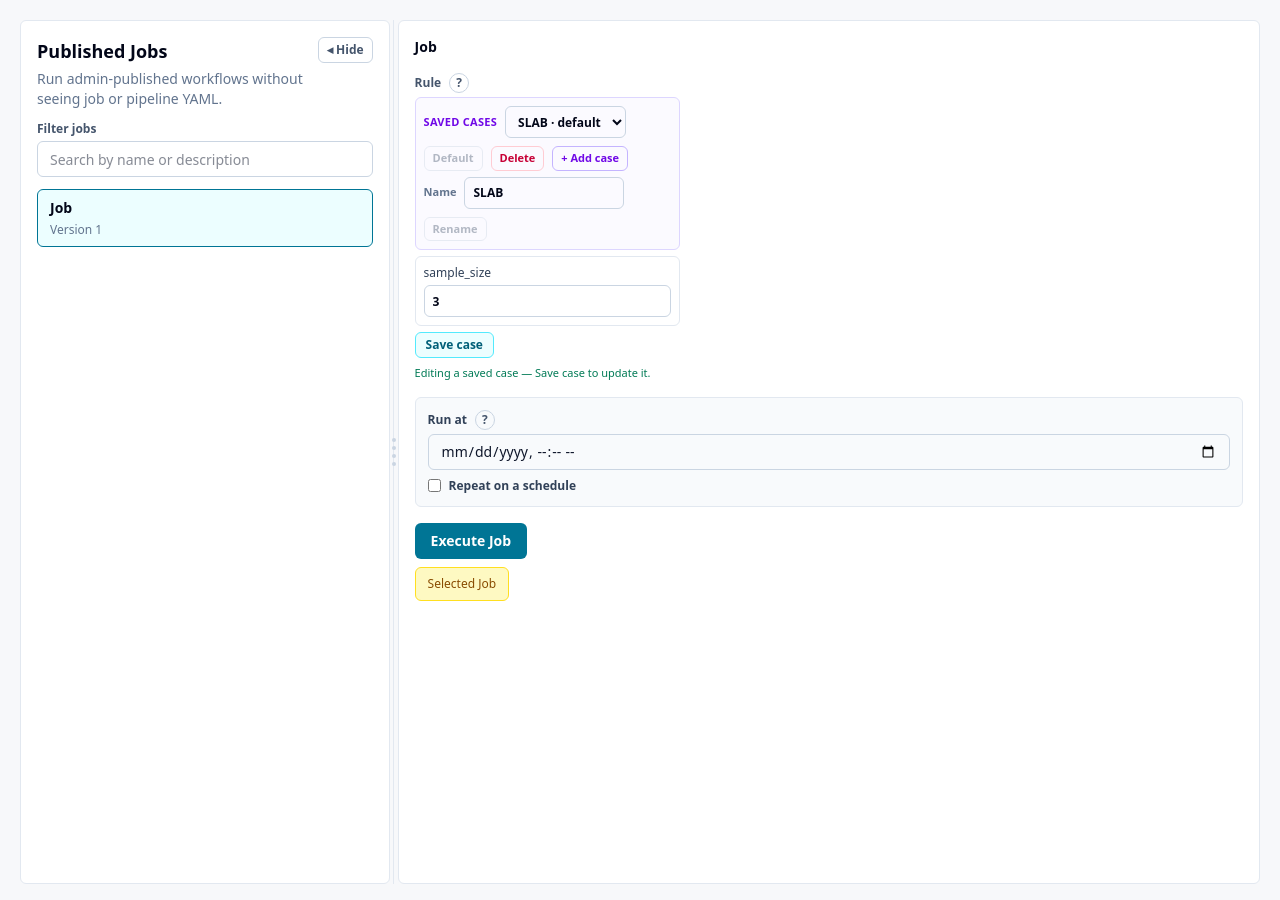
Test: PublishedJobsPage › pre-fills the default case and switches cases for a multi-instance field
Expected: the number field showing "3" is shown, 424,285 -> 671,317
Select "WT" in the dropdown named "Saved case": point(566, 122) 505,106 -> 626,138
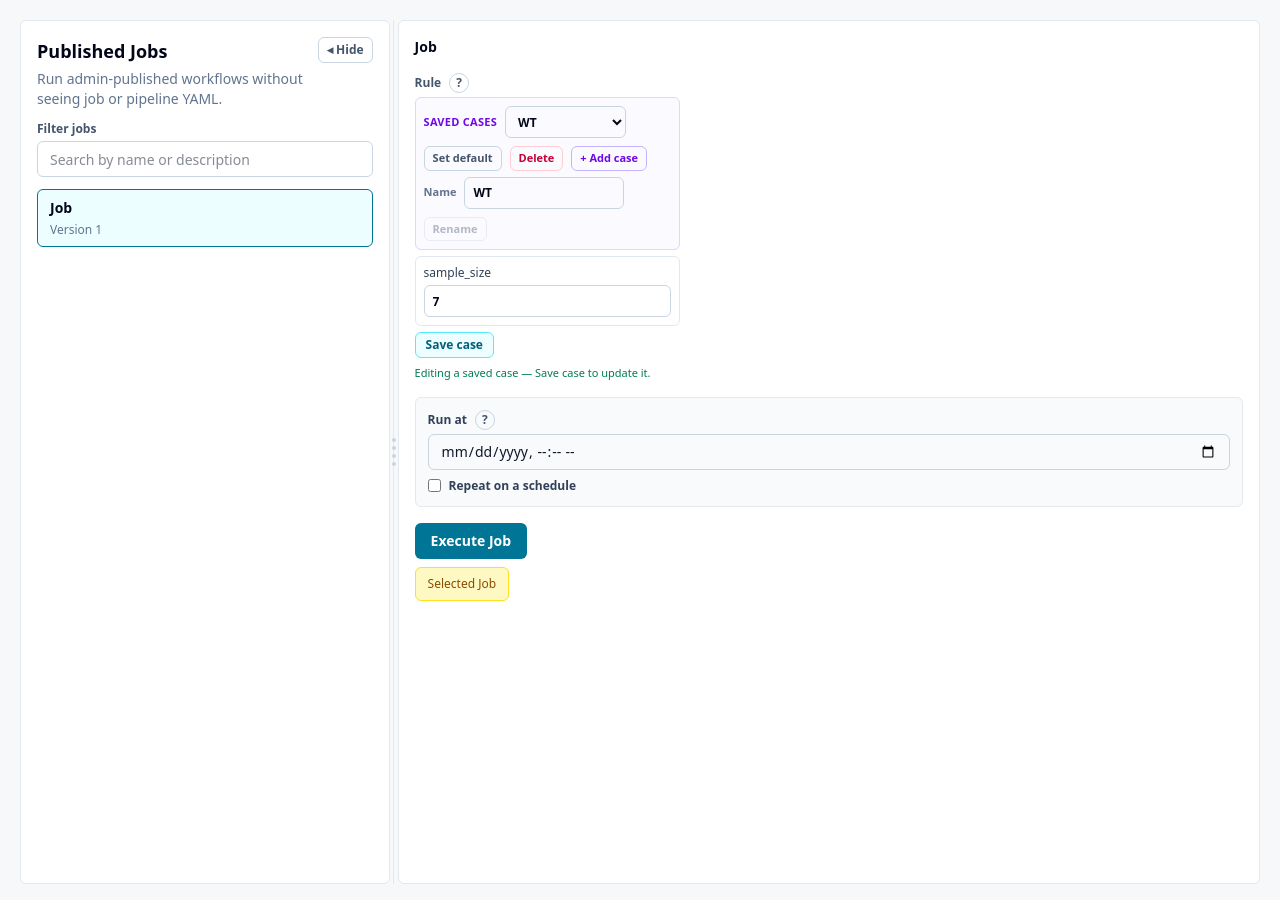
Expected: the number field showing "7" is shown, 424,285 -> 671,317
